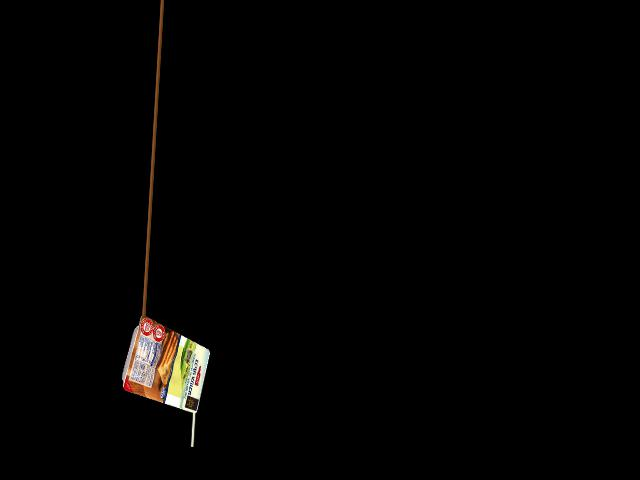cheese: (122, 329, 210, 405)
